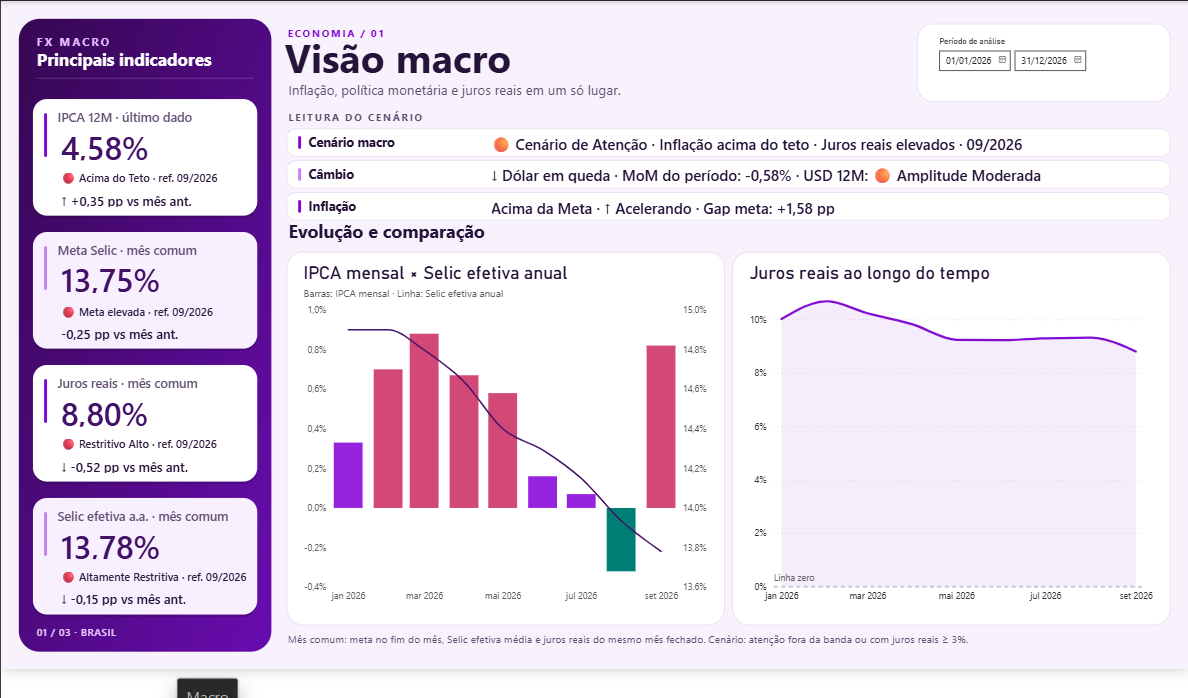

The dashboard page shown, as its layout file describes it:
{"tool":"powerbi","page":{"name":"Macro","canvas":[1600,900],"ordinal":0},"visuals":[{"type":"image","box":[0,0,1600,900],"z":0},{"type":"cardVisual","fields":{"Data":["vw_macro_ipca_12m.IPCA 12M Último"]},"box":[75,170,265,50],"z":1000},{"type":"cardVisual","fields":{"Data":["vw_macro_ipca_12m.Badge IPCA Status"]},"box":[75,221,265,32],"z":1100},{"type":"cardVisual","fields":{"Data":["vw_macro_ipca_12m.IPCA 12M Variação Texto"]},"box":[75,253,265,30],"z":1200},{"type":"cardVisual","fields":{"Data":["vw_gold_selic_meta.Meta Selic no Mês Comparável"]},"box":[75,349,265,50],"z":1300},{"type":"cardVisual","fields":{"Data":["vw_gold_selic_meta.Status Meta Selic no Mês Comparável"]},"box":[75,400,265,32],"z":1400},{"type":"cardVisual","fields":{"Data":["vw_gold_selic_meta.Variação Meta Selic no Mês Comparável Texto"]},"box":[75,432,265,30],"z":1500},{"type":"cardVisual","fields":{"Data":["vw_macro_real_rate.Juros Reais Último"]},"box":[75,528,265,50],"z":1600},{"type":"cardVisual","fields":{"Data":["vw_macro_real_rate.Badge Juros Status"]},"box":[75,579,265,32],"z":1700},{"type":"cardVisual","fields":{"Data":["vw_macro_real_rate.Juros Reais Delta Texto"]},"box":[75,611,265,30],"z":1800},{"type":"cardVisual","fields":{"Data":["vw_macro_monthly.Selic Anualizada"]},"box":[75,707,265,50],"z":1900},{"type":"cardVisual","fields":{"Data":["vw_macro_monthly.Badge Selic Anualizada"]},"box":[75,758,265,32],"z":2000},{"type":"cardVisual","fields":{"Data":["vw_macro_monthly.Selic Delta Texto"]},"box":[75,790,265,30],"z":2100},{"type":"cardVisual","fields":{"Data":["vw_macro_monthly.Cenário Macro Resumo"]},"box":[654,173,904,35],"z":3000},{"type":"cardVisual","fields":{"Data":["vw_fx_monthly_summary.Câmbio Cenário Resumo"]},"box":[654,216,904,35],"z":3100},{"type":"cardVisual","fields":{"Data":["vw_macro_ipca_12m.Inflação Cenário Resumo"]},"box":[654,259,904,35],"z":3200},{"type":"lineStackedColumnComboChart","title":"IPCA mensal × Selic efetiva anual","fields":{"Category":["Calendario.Date.Variation.Hierarquia de datas.Ano"],"Y":["vw_macro_monthly.IPCA Mensal Último"],"Y2":["vw_macro_monthly.Selic Histórico"]},"box":[403,352,553,467],"z":4000},{"type":"areaChart","title":"Juros reais ao longo do tempo","fields":{"Category":["Calendario.Date.Variation.Hierarquia de datas.Ano"],"Y":["vw_macro_real_rate.Juros Reais Histórico"]},"box":[1003,352,553,467],"z":4100},{"type":"slicer","fields":{"Values":["Calendario.Date"]},"box":[1251,42,306,81],"z":5000}]}

Visuals, with their boxes on the page's 1600x900 design canvas (x1, y1, x2, y2). These are canvas units, not pixel positions in the 1188x698 screenshot, which may show the page scaled, cropped or inside an application window:
image: x1=0, y1=0, x2=1600, y2=900
cardVisual - vw_macro_ipca_12m.IPCA 12M Último: x1=75, y1=170, x2=340, y2=220
cardVisual - vw_macro_ipca_12m.Badge IPCA Status: x1=75, y1=221, x2=340, y2=253
cardVisual - vw_macro_ipca_12m.IPCA 12M Variação Texto: x1=75, y1=253, x2=340, y2=283
cardVisual - vw_gold_selic_meta.Meta Selic no Mês Comparável: x1=75, y1=349, x2=340, y2=399
cardVisual - vw_gold_selic_meta.Status Meta Selic no Mês Comparável: x1=75, y1=400, x2=340, y2=432
cardVisual - vw_gold_selic_meta.Variação Meta Selic no Mês Comparável Texto: x1=75, y1=432, x2=340, y2=462
cardVisual - vw_macro_real_rate.Juros Reais Último: x1=75, y1=528, x2=340, y2=578
cardVisual - vw_macro_real_rate.Badge Juros Status: x1=75, y1=579, x2=340, y2=611
cardVisual - vw_macro_real_rate.Juros Reais Delta Texto: x1=75, y1=611, x2=340, y2=641
cardVisual - vw_macro_monthly.Selic Anualizada: x1=75, y1=707, x2=340, y2=757
cardVisual - vw_macro_monthly.Badge Selic Anualizada: x1=75, y1=758, x2=340, y2=790
cardVisual - vw_macro_monthly.Selic Delta Texto: x1=75, y1=790, x2=340, y2=820
cardVisual - vw_macro_monthly.Cenário Macro Resumo: x1=654, y1=173, x2=1558, y2=208
cardVisual - vw_fx_monthly_summary.Câmbio Cenário Resumo: x1=654, y1=216, x2=1558, y2=251
cardVisual - vw_macro_ipca_12m.Inflação Cenário Resumo: x1=654, y1=259, x2=1558, y2=294
"IPCA mensal × Selic efetiva anual" lineStackedColumnComboChart: x1=403, y1=352, x2=956, y2=819
"Juros reais ao longo do tempo" areaChart: x1=1003, y1=352, x2=1556, y2=819
slicer - Calendario.Date: x1=1251, y1=42, x2=1557, y2=123
